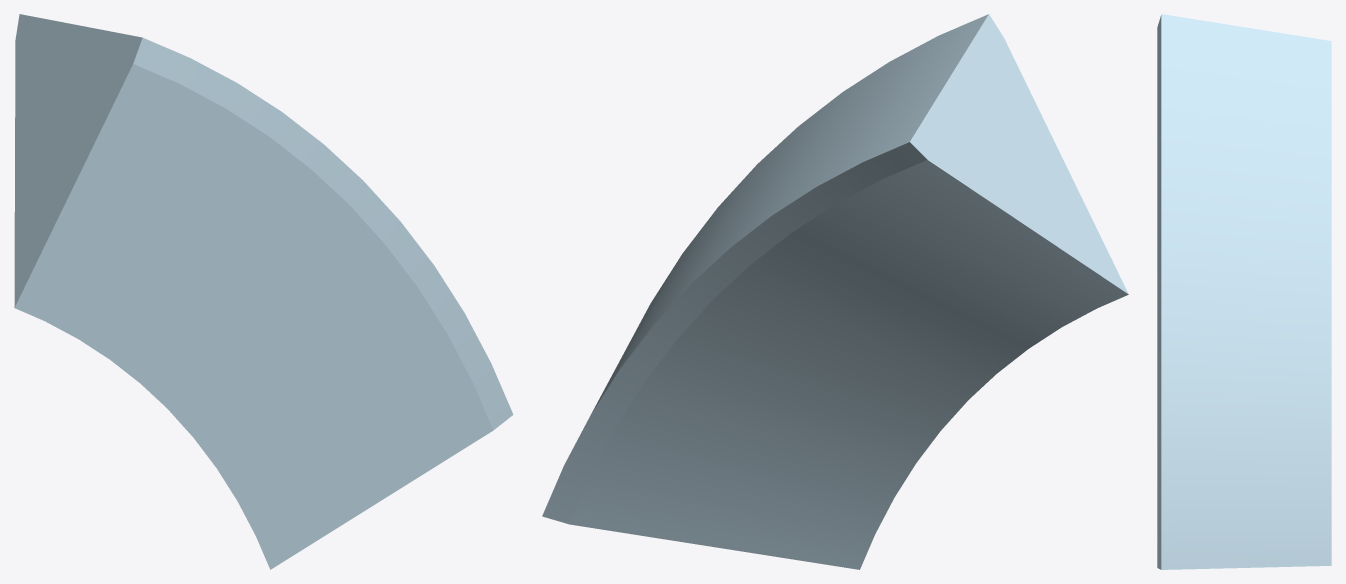
Rendered from Sub_7_Cell_2_1.gltf.
3 views of the same model, side by side, from view 1: azimuth 30°, elevation 25°; view 2: azimuth 150°, elevation 25°; view 3: azimuth 270°, elevation 25° (orthographic). The views are drawn at different scales.
Visible parts, largest first — view 1: Sub_7_Cell_2_1; view 2: Sub_7_Cell_2_1; view 3: Sub_7_Cell_2_1.
Part boxes in pixels (x1,y1,x2,y2): Sub_7_Cell_2_1: [14, 14, 513, 569]; Sub_7_Cell_2_1: [542, 14, 1128, 569]; Sub_7_Cell_2_1: [1157, 14, 1331, 569].
Bounding box in the file's own units: 0.1092 × 0.1168 × 0.0384.
